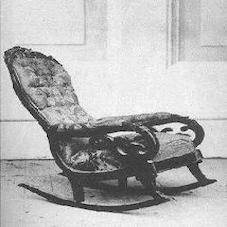chair: (0, 34, 215, 214)
